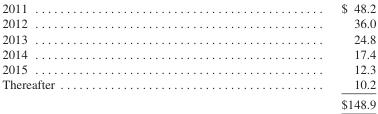table: (1, 0, 375, 111)
table column: (1, 0, 197, 111), (197, 0, 375, 111)
table row: (1, 93, 375, 111), (1, 76, 375, 93), (1, 45, 375, 61), (1, 0, 375, 15), (1, 15, 375, 30), (1, 30, 375, 45), (1, 61, 375, 76)
